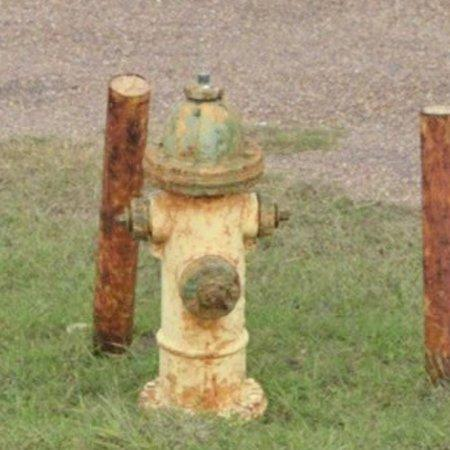a fire hydrant: (133, 75, 280, 418)
